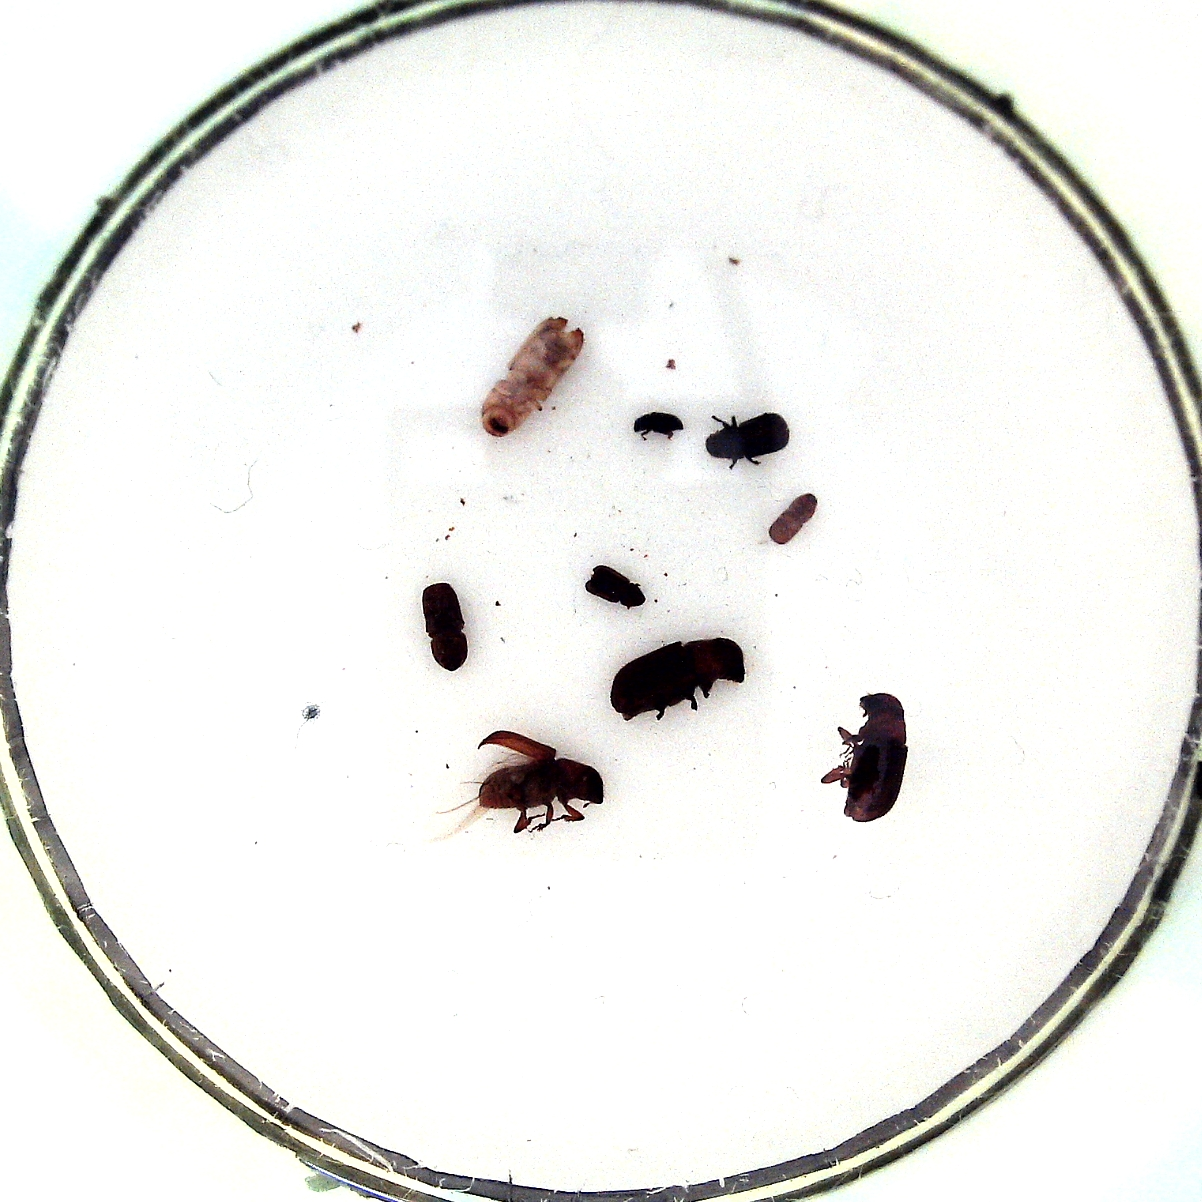Boerner: (478, 312, 588, 440)
Leconte: (430, 726, 615, 846), (601, 635, 752, 725), (817, 689, 914, 824)
Linnaeus: (412, 578, 478, 676)
acuminatus: (764, 489, 821, 547)
armandi: (699, 408, 799, 476)
coleoptera: (583, 558, 653, 614), (630, 406, 686, 442)
